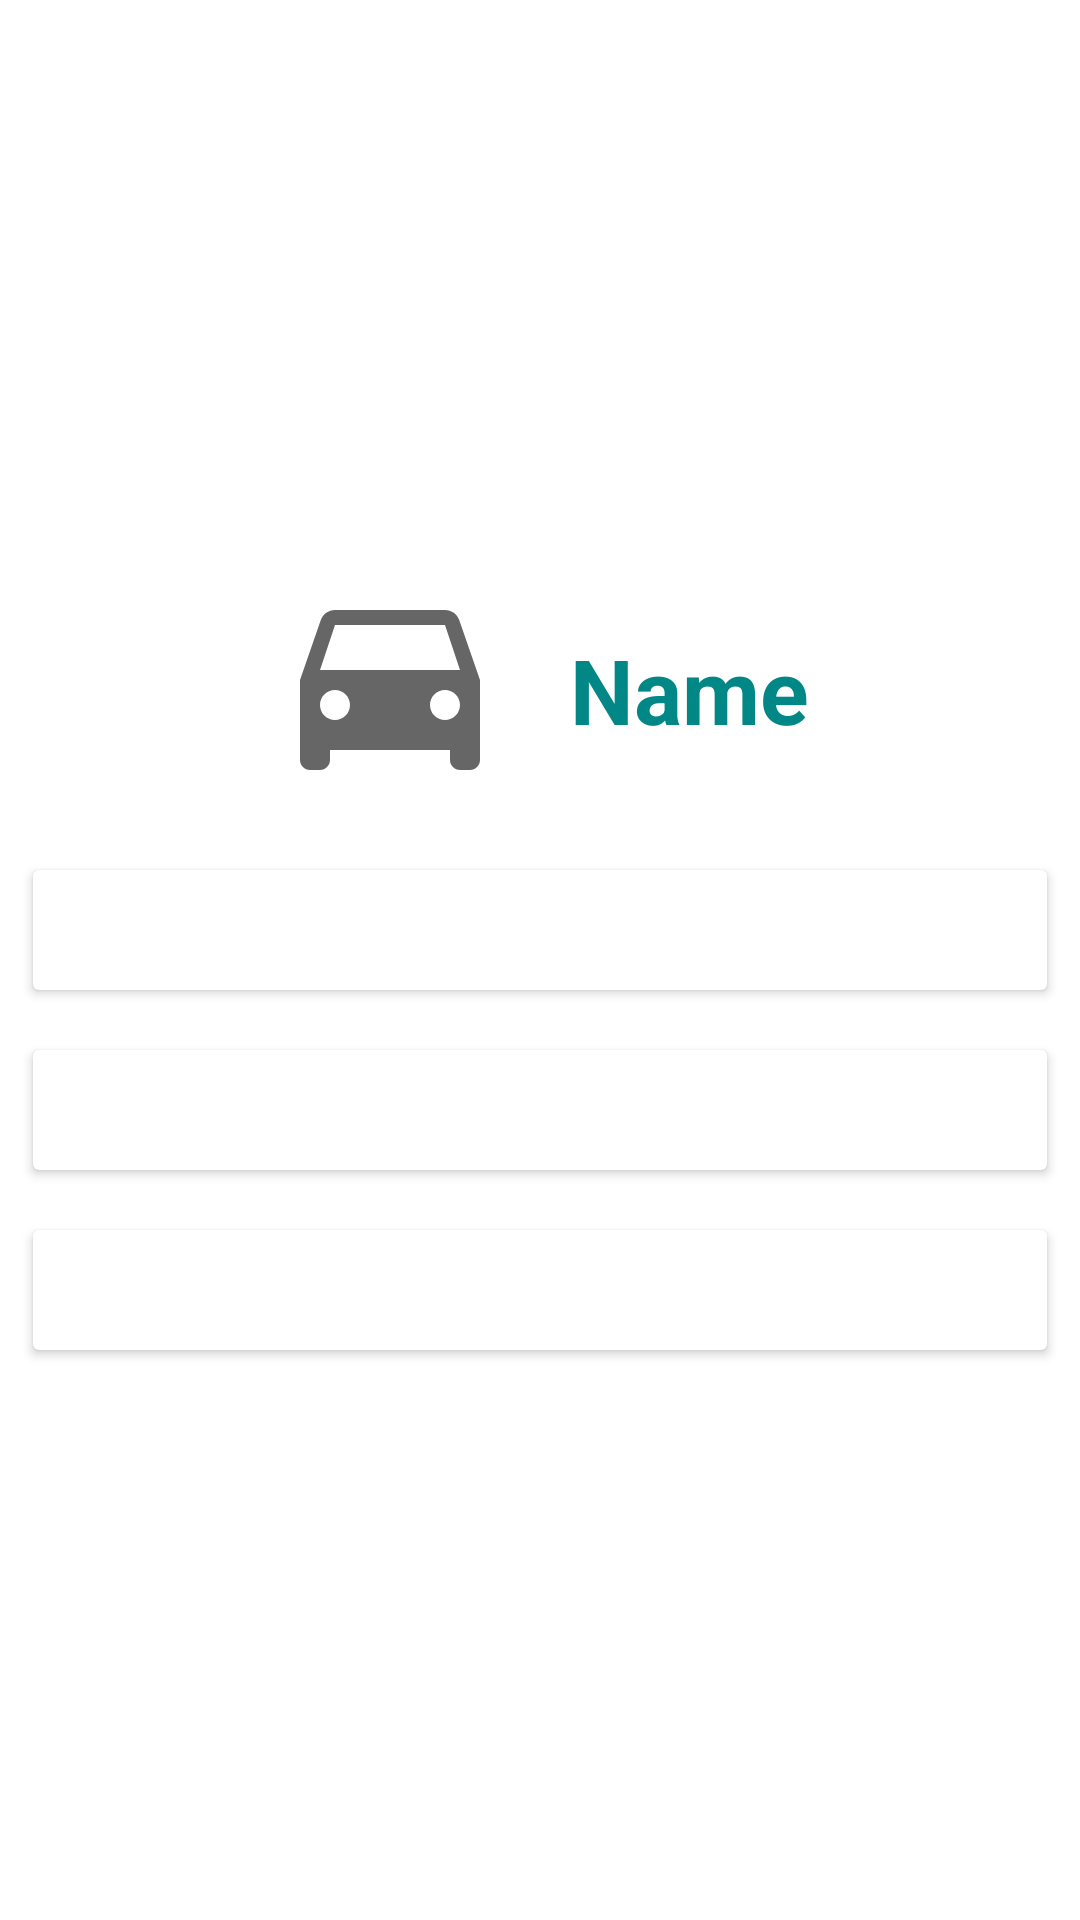

Where to tap for icons on this 1080×1920 app screen, as (x,y):
car: (390,690)
